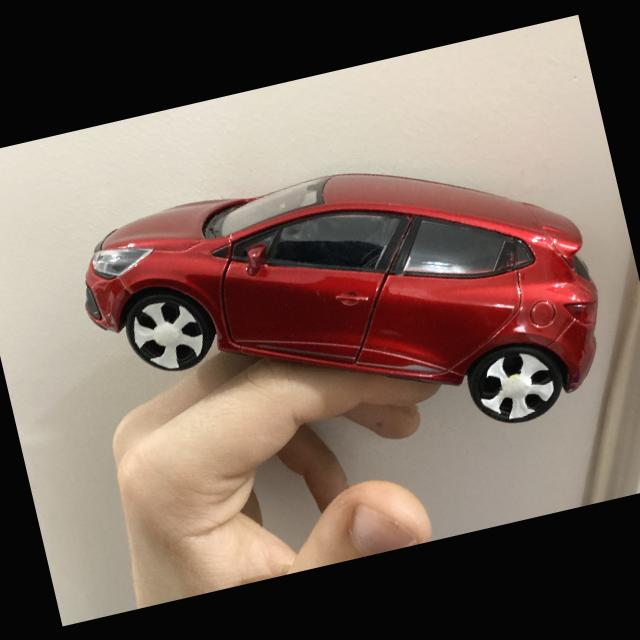Yanlis_Jant: (126, 291, 211, 378), (471, 345, 561, 426)
